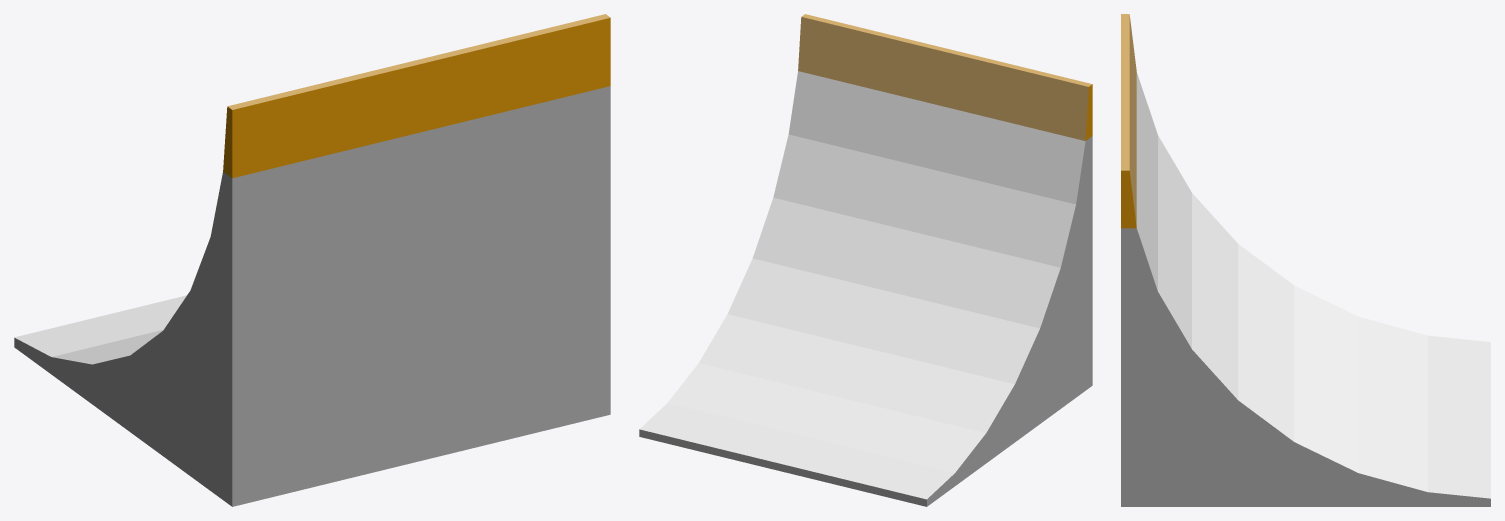
The model's file is Quarter_20x20x20.fbx.
3 views of the same model, side by side, from view 1: azimuth 30°, elevation 25°; view 2: azimuth 150°, elevation 25°; view 3: azimuth 270°, elevation 25° (orthographic). The views are drawn at different scales.
Visible parts, largest first — view 1: Quarter_20x20x20; view 2: Quarter_20x20x20; view 3: Quarter_20x20x20.
Boxes of the visible parts, x1=… form: Quarter_20x20x20: x1=14, y1=14, x2=610, y2=506; Quarter_20x20x20: x1=639, y1=14, x2=1092, y2=506; Quarter_20x20x20: x1=1121, y1=14, x2=1490, y2=506.
Bounding box in the file's own units: 20 × 20.04 × 19.97.
